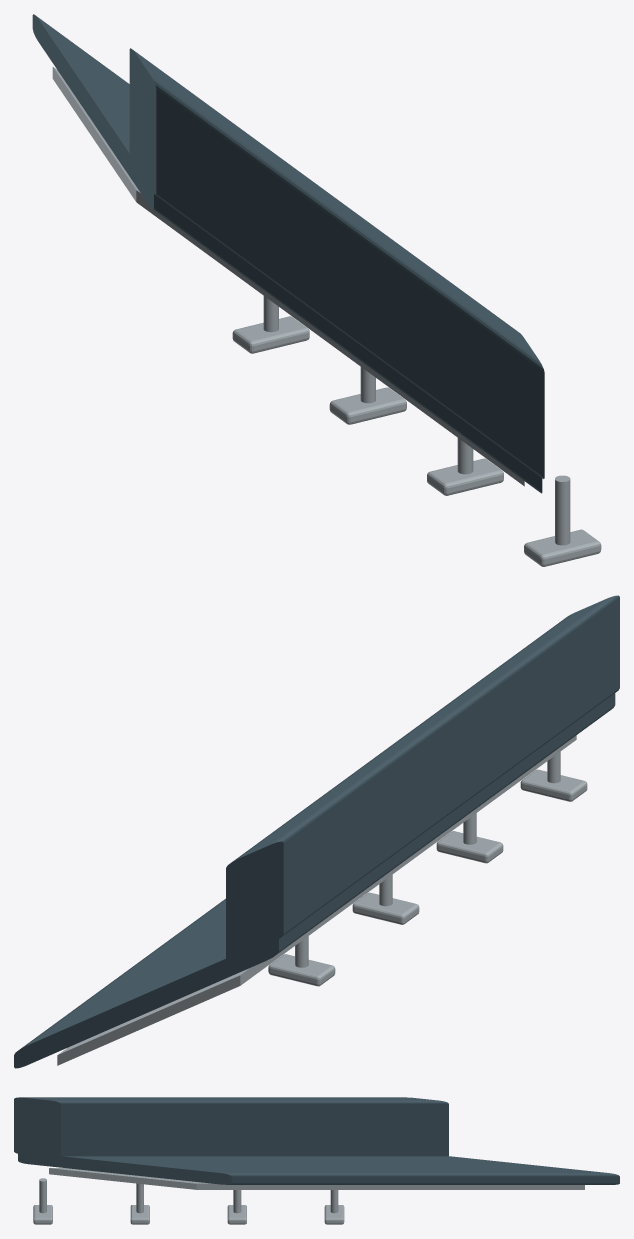
The model's file is cabin_bench_length_400cm.glb.
The picture shows the model from 3 angles, top to bottom: view 1: azimuth 30°, elevation 25°; view 2: azimuth 150°, elevation 25°; view 3: azimuth 270°, elevation 25°; orthographic projection. The views are drawn at different scales.
Visible parts, largest first — view 1: Bench upright back.007, Bench seat cushion.007, Bench support beam.007, Bench foot.015, Bench foot.017, Bench foot.018, Bench foot.016, Bench pedestal.015; view 2: Bench upright back.007, Bench seat cushion.007, Bench support beam.007, Bench foot.016, Bench foot.017, Bench foot.015, Bench foot.018; view 3: Bench upright back.007, Bench seat cushion.007, Bench support beam.007, Bench foot.018, Bench foot.015, Bench foot.016, Bench foot.017, Bench pedestal.015, Bench pedestal.016, Bench pedestal.018, Bench pedestal.017.
Part boxes in pixels (box(x1,y1,x2,y2)): Bench upright back.007: box(129, 48, 544, 478); Bench seat cushion.007: box(32, 14, 542, 493); Bench support beam.007: box(52, 67, 524, 486); Bench foot.015: box(524, 529, 601, 566); Bench foot.017: box(329, 387, 406, 424); Bench foot.018: box(232, 316, 309, 353); Bench foot.016: box(427, 458, 503, 495); Bench pedestal.015: box(555, 475, 570, 545); Bench upright back.007: box(226, 595, 619, 960); Bench seat cushion.007: box(14, 693, 615, 1068); Bench support beam.007: box(57, 735, 576, 1065); Bench foot.016: box(436, 831, 503, 863); Bench foot.017: box(352, 892, 419, 924); Bench foot.015: box(520, 769, 587, 801); Bench foot.018: box(268, 954, 335, 986); Bench upright back.007: box(14, 1097, 448, 1157); Bench seat cushion.007: box(18, 1152, 619, 1184); Bench support beam.007: box(49, 1168, 584, 1189); Bench foot.018: box(324, 1205, 344, 1224); Bench foot.015: box(33, 1205, 52, 1224); Bench foot.016: box(130, 1205, 149, 1224); Bench foot.017: box(227, 1205, 246, 1224); Bench pedestal.015: box(39, 1178, 46, 1213); Bench pedestal.016: box(136, 1183, 143, 1213); Bench pedestal.018: box(330, 1190, 338, 1213); Bench pedestal.017: box(233, 1190, 241, 1213).
Size of the model in its own units: 0.56 by 1.25 by 6.24.
